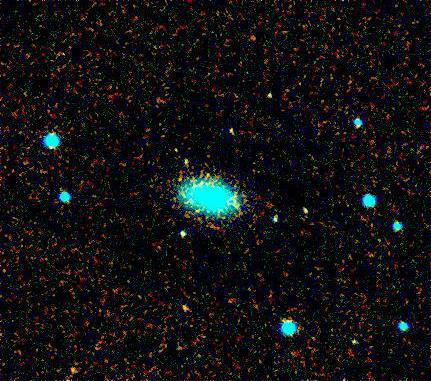star: (59, 355, 89, 381)
